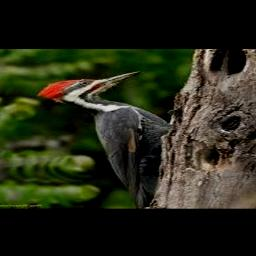Woodpecker: (38, 71, 173, 209)
